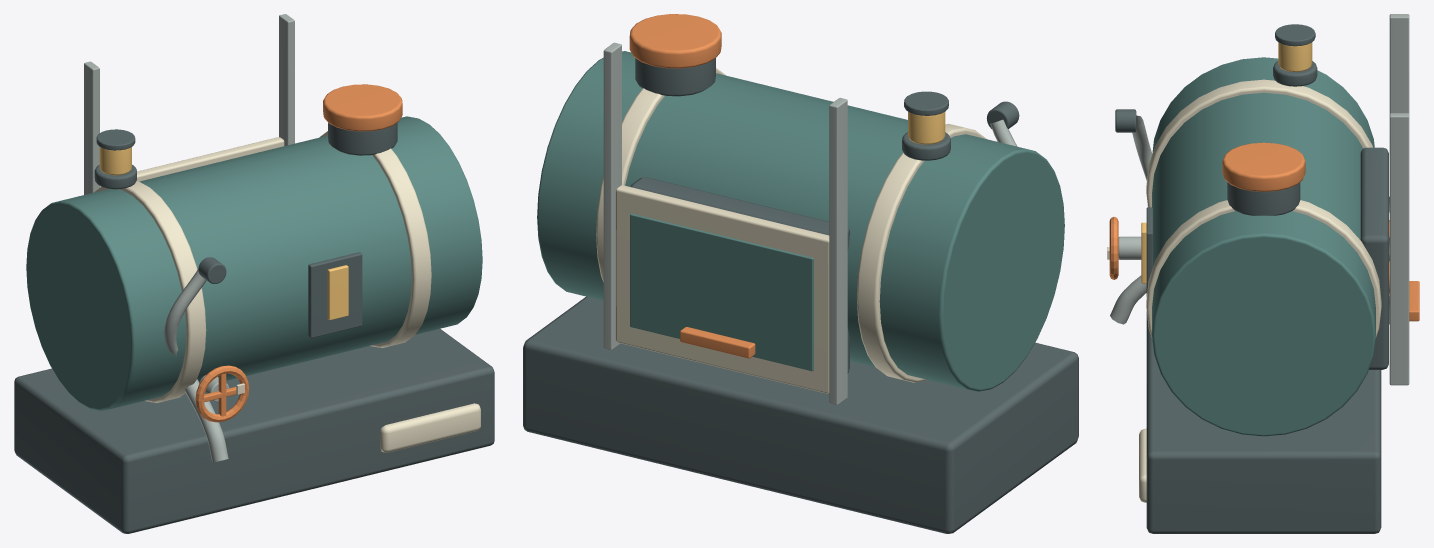
File: NW1_WaterTank.fbx
3 renders of one model, left to right at view 1: azimuth 30°, elevation 25°; view 2: azimuth 150°, elevation 25°; view 3: azimuth 270°, elevation 25°, orthographic. The views are drawn at different scales.
Visible parts, largest first — view 1: NW1_WaterTank_NW1_Teal, NW1_WaterTank_NW1_Frame, NW1_WaterTank_NW1_Ivory, NW1_WaterTank_NW1_Steel, NW1_WaterTank_Work_FillLid_NW1_Orange, NW1_WaterTank_Work_Valve_NW1_Orange, NW1_WaterTank_Work_ServiceDoor_NW1_Ivory, NW1_WaterTank_NW1_Lamp, NW1_WaterTank_Work_ConditionIndicator_NW1_Lamp; view 2: NW1_WaterTank_NW1_Teal, NW1_WaterTank_NW1_Frame, NW1_WaterTank_Work_ServiceDoor_NW1_Teal, NW1_WaterTank_Work_ServiceDoor_NW1_Ivory, NW1_WaterTank_NW1_Steel, NW1_WaterTank_NW1_Ivory, NW1_WaterTank_Work_FillLid_NW1_Orange, NW1_WaterTank_Work_ServiceDoor_NW1_Orange, NW1_WaterTank_Work_ConditionIndicator_NW1_Lamp; view 3: NW1_WaterTank_NW1_Teal, NW1_WaterTank_NW1_Frame, NW1_WaterTank_NW1_Steel, NW1_WaterTank_NW1_Ivory, NW1_WaterTank_Work_FillLid_NW1_Orange, NW1_WaterTank_Work_ConditionIndicator_NW1_Lamp, NW1_WaterTank_Work_Valve_NW1_Orange, NW1_WaterTank_Work_Valve_NW1_Steel, NW1_WaterTank_Work_ServiceDoor_NW1_Orange.
Part boxes in pixels (x1=…): NW1_WaterTank_NW1_Teal: x1=26, y1=116, x2=482, y2=410; NW1_WaterTank_NW1_Frame: x1=14, y1=123, x2=494, y2=533; NW1_WaterTank_NW1_Ivory: x1=94, y1=131, x2=480, y2=452; NW1_WaterTank_NW1_Steel: x1=84, y1=14, x2=294, y2=462; NW1_WaterTank_Work_FillLid_NW1_Orange: x1=323, y1=84, x2=402, y2=131; NW1_WaterTank_Work_Valve_NW1_Orange: x1=195, y1=365, x2=249, y2=422; NW1_WaterTank_Work_ServiceDoor_NW1_Ivory: x1=100, y1=137, x2=284, y2=187; NW1_WaterTank_NW1_Lamp: x1=327, y1=265, x2=348, y2=320; NW1_WaterTank_Work_ConditionIndicator_NW1_Lamp: x1=99, y1=147, x2=131, y2=175; NW1_WaterTank_NW1_Teal: x1=537, y1=51, x2=1064, y2=391; NW1_WaterTank_NW1_Frame: x1=523, y1=58, x2=1078, y2=533; NW1_WaterTank_Work_ServiceDoor_NW1_Teal: x1=630, y1=213, x2=813, y2=371; NW1_WaterTank_Work_ServiceDoor_NW1_Ivory: x1=615, y1=185, x2=829, y2=393; NW1_WaterTank_NW1_Steel: x1=603, y1=42, x2=1017, y2=405; NW1_WaterTank_NW1_Ivory: x1=596, y1=68, x2=986, y2=382; NW1_WaterTank_Work_FillLid_NW1_Orange: x1=629, y1=14, x2=721, y2=68; NW1_WaterTank_Work_ServiceDoor_NW1_Orange: x1=680, y1=327, x2=755, y2=358; NW1_WaterTank_Work_ConditionIndicator_NW1_Lamp: x1=908, y1=112, x2=945, y2=144; NW1_WaterTank_NW1_Teal: x1=1152, y1=57, x2=1375, y2=436; NW1_WaterTank_NW1_Frame: x1=1115, y1=24, x2=1388, y2=533; NW1_WaterTank_NW1_Steel: x1=1110, y1=14, x2=1409, y2=385; NW1_WaterTank_NW1_Ivory: x1=1139, y1=79, x2=1381, y2=502; NW1_WaterTank_Work_FillLid_NW1_Orange: x1=1222, y1=142, x2=1305, y2=191; NW1_WaterTank_Work_ConditionIndicator_NW1_Lamp: x1=1278, y1=42, x2=1312, y2=71; NW1_WaterTank_Work_Valve_NW1_Orange: x1=1109, y1=217, x2=1118, y2=279; NW1_WaterTank_Work_Valve_NW1_Steel: x1=1118, y1=236, x2=1141, y2=259; NW1_WaterTank_Work_ServiceDoor_NW1_Orange: x1=1409, y1=281, x2=1419, y2=321.
Size of the model in its own units: 1.72 by 1.6 by 1.2.
